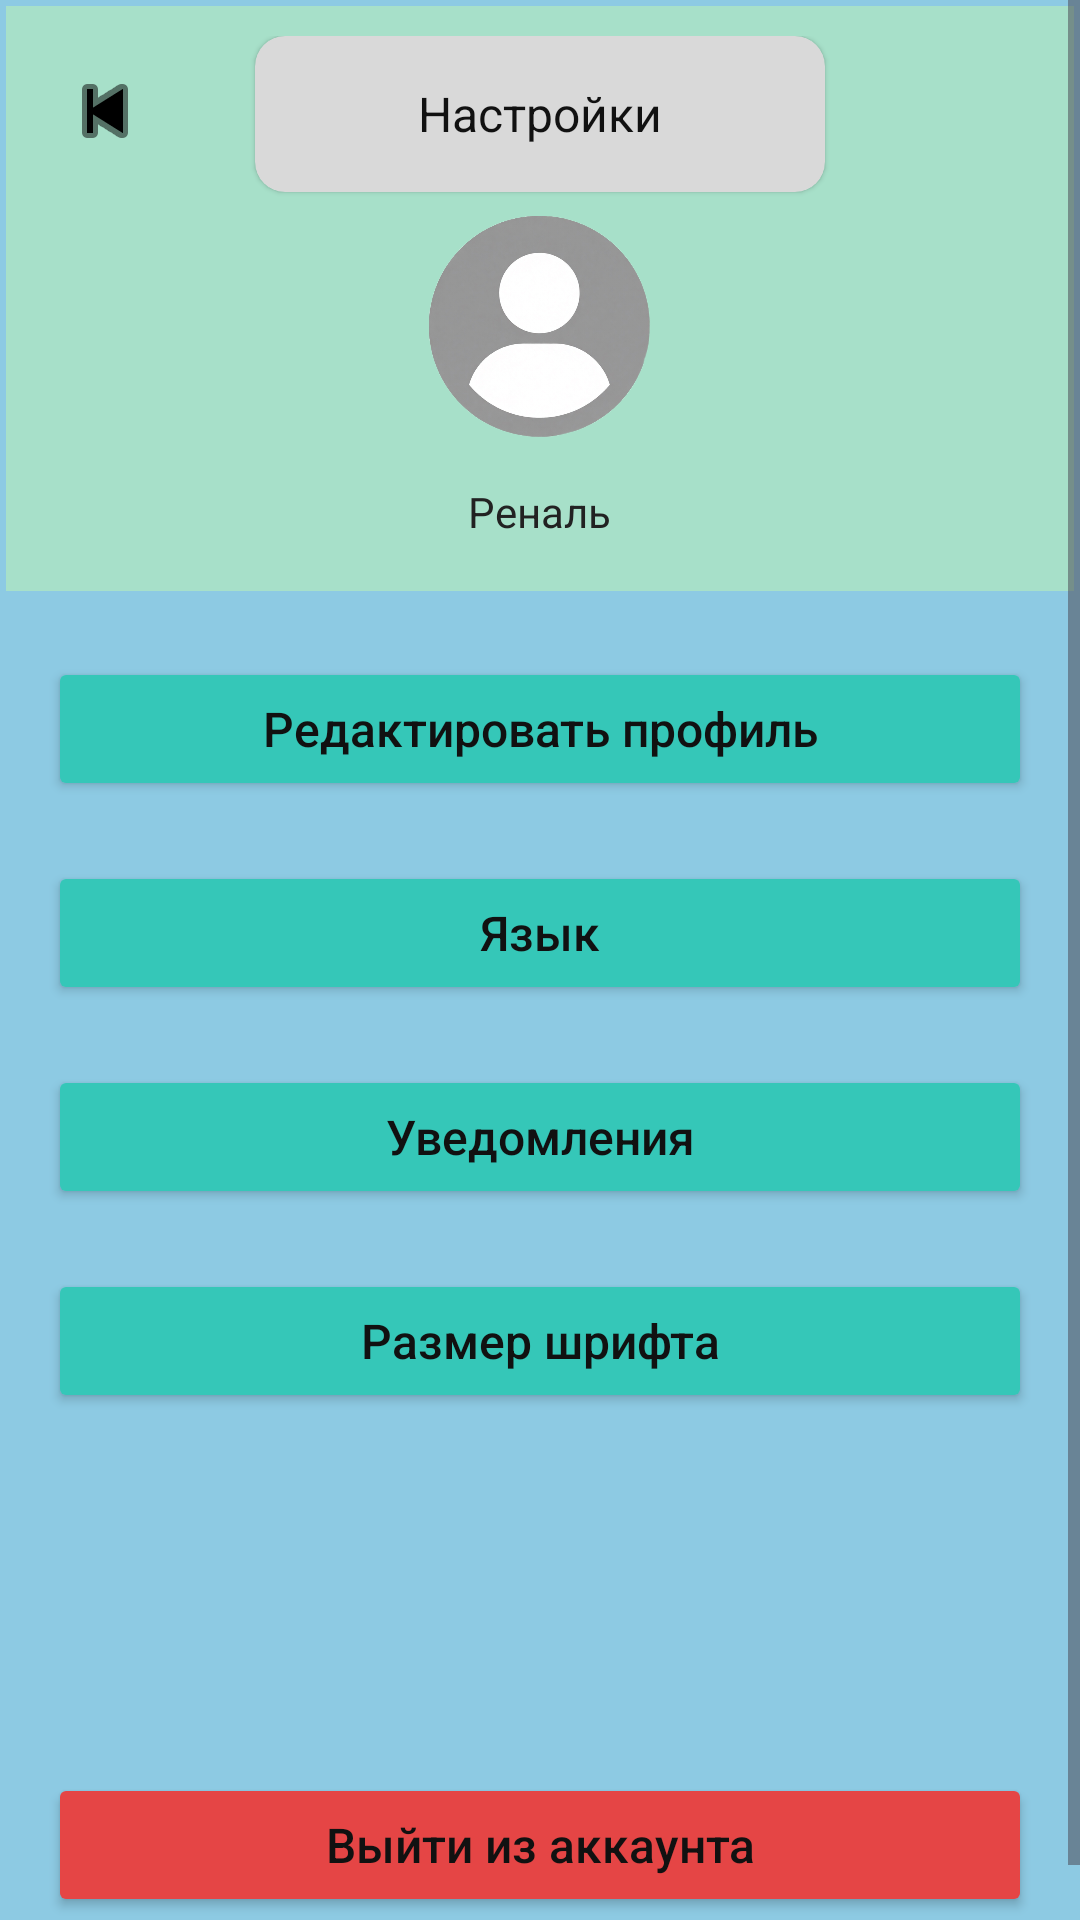

Icons on this 1080 x 1920 Android screen, each with the point to tap as (x=x, y=y):
Назад: (x=105, y=111)
